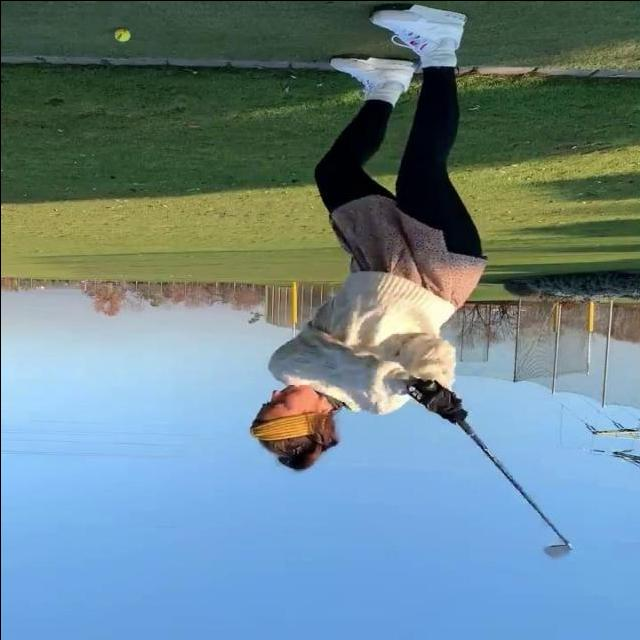ClubHandle: (432, 396, 568, 557)
ClubHead: (543, 536, 566, 559)
GolfBall: (112, 28, 132, 43)
